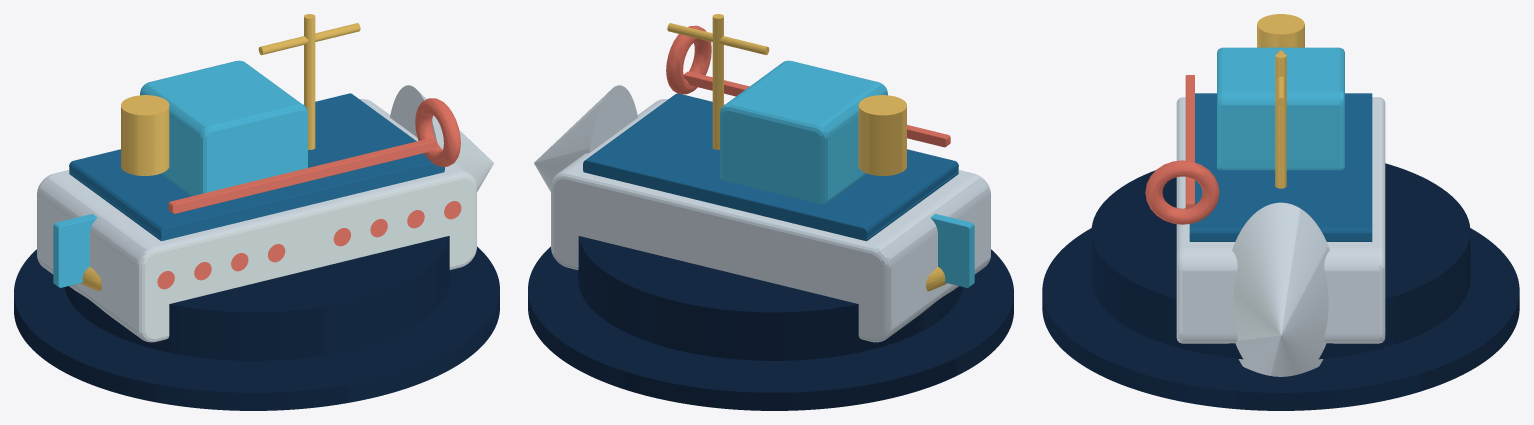
File: 0609_考古图鉴_“南海一号”沉船.glb
3 renders of one model, left to right at view 1: azimuth 30°, elevation 25°; view 2: azimuth 150°, elevation 25°; view 3: azimuth 270°, elevation 25°, orthographic.
Parts seen in each view (by area): view 1: card_0609; view 2: card_0609; view 3: card_0609.
Part boxes in pixels (left/top/right/bottom): card_0609: left=14, top=14, right=499, bottom=410; card_0609: left=528, top=14, right=1013, bottom=410; card_0609: left=1042, top=14, right=1519, bottom=410.
Bounding box in the file's own units: 1.64 × 1 × 1.52.
